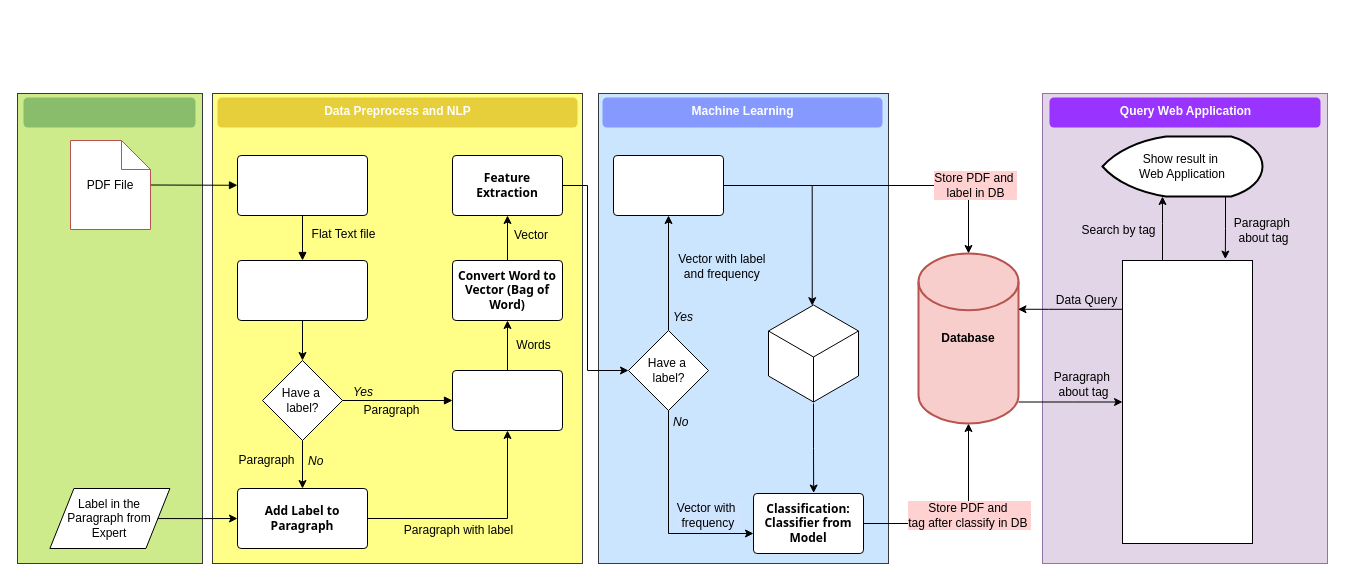
The diagram is 1345 pixels wide and 581 high, and some of its shapes have lost their labels. Each missing label, with the centre of its shape:
Classification: Train Model: point (668, 185)
Convert PDF to text: point (302, 185)
Ingestion Web Application: point (109, 112)
Model: point (813, 353)
Paragraph Splitting: point (302, 290)
Web Server: point (1187, 402)
Word Segmentation: point (507, 400)
